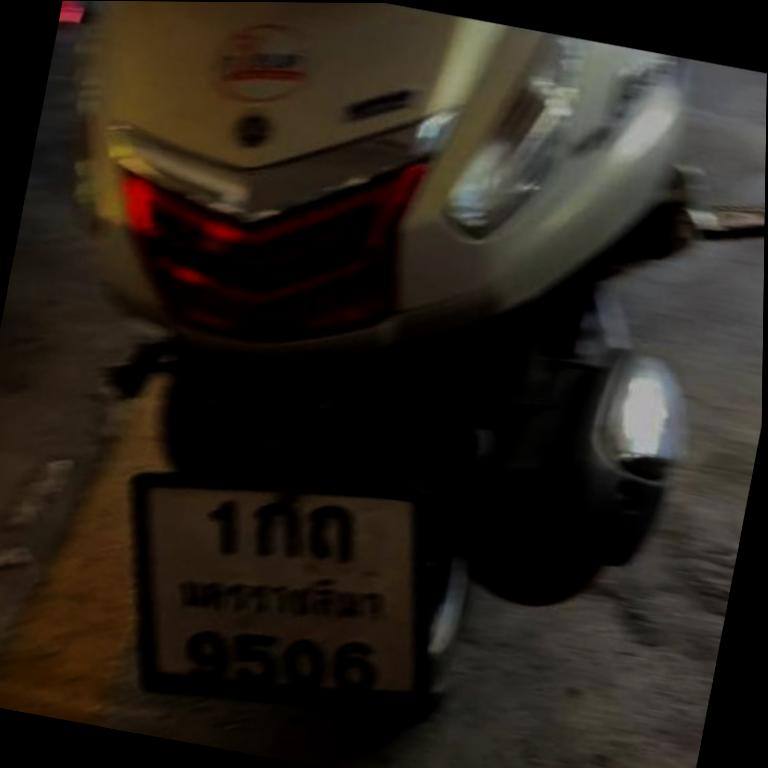license plate: (135, 474, 432, 710)
